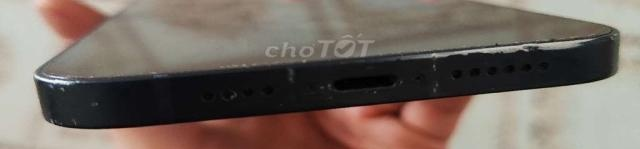scratch: (40, 60, 304, 87), (370, 29, 567, 60), (47, 93, 130, 136)
